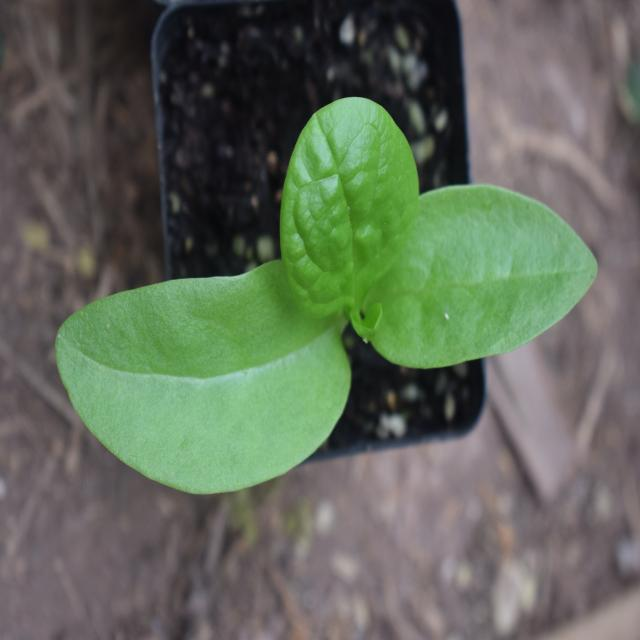Ceylon spinach: (82, 109, 578, 531)
